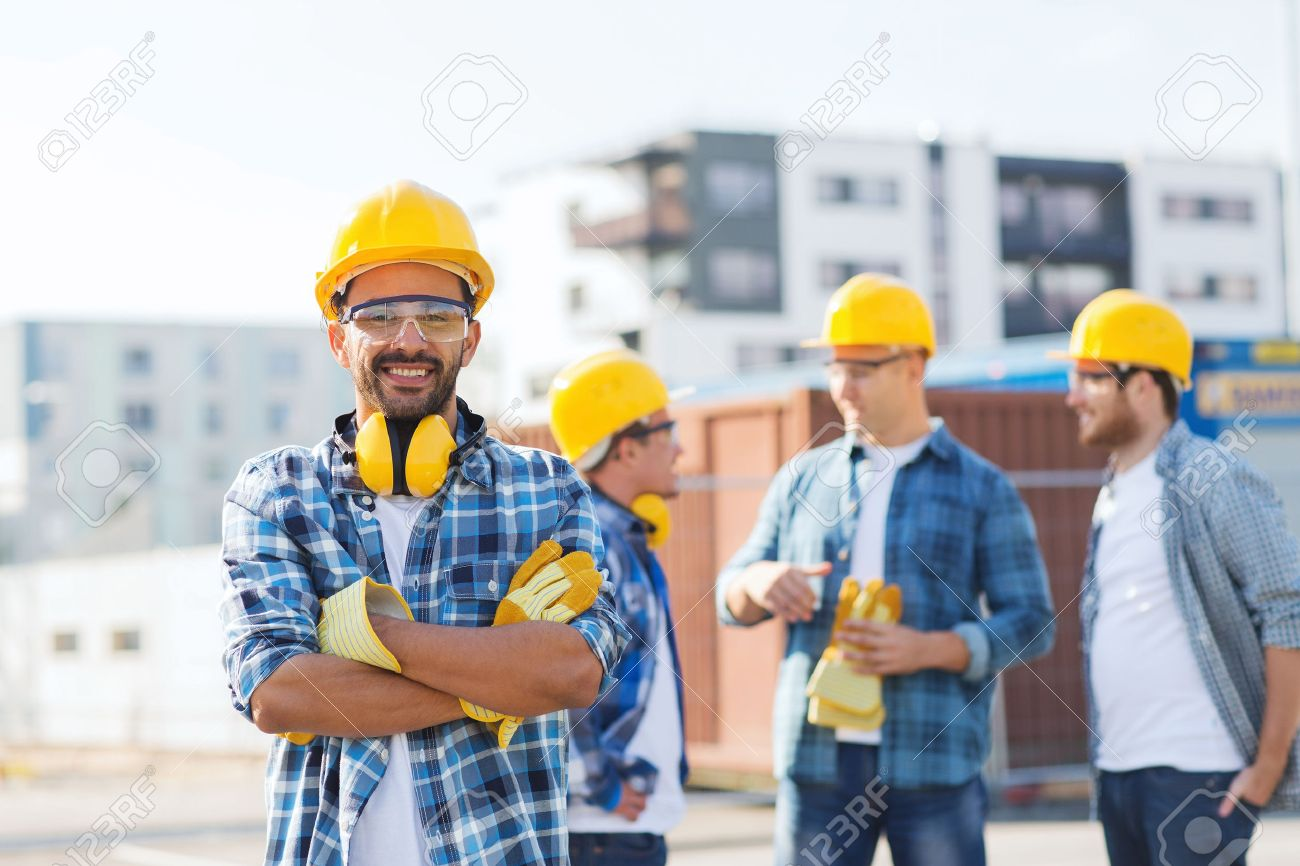casco: (309, 177, 497, 331), (545, 348, 700, 475), (1040, 285, 1200, 398), (796, 271, 941, 361)
